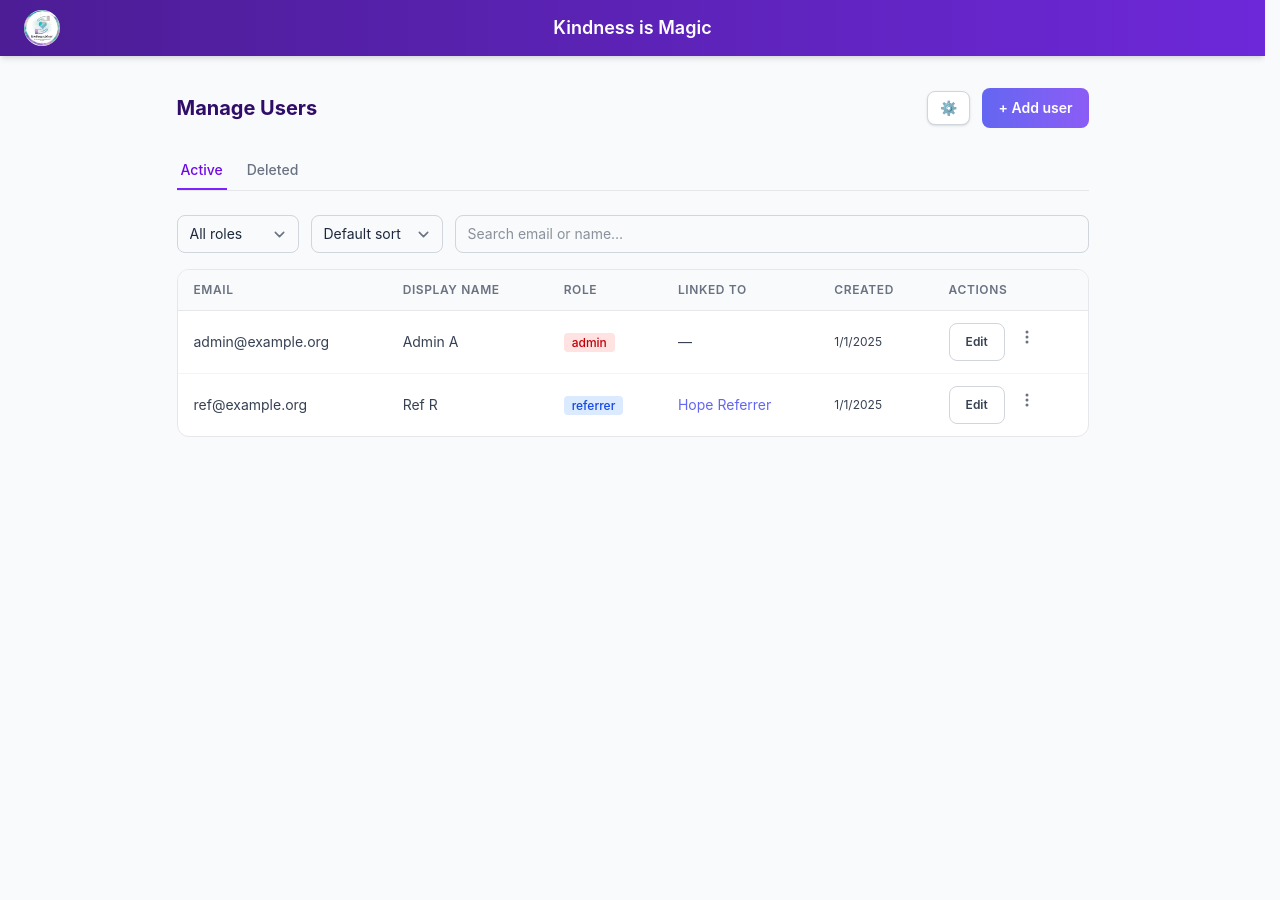
AdminUsers › edit user submits only changed fields
Check: the text "admin@example.org" is shown, box x1=178 y1=310 x2=387 y2=374
Click the button "Edit" in the row of "admin@example.org" at (977, 342), box x1=949 y1=323 x2=1005 y2=361
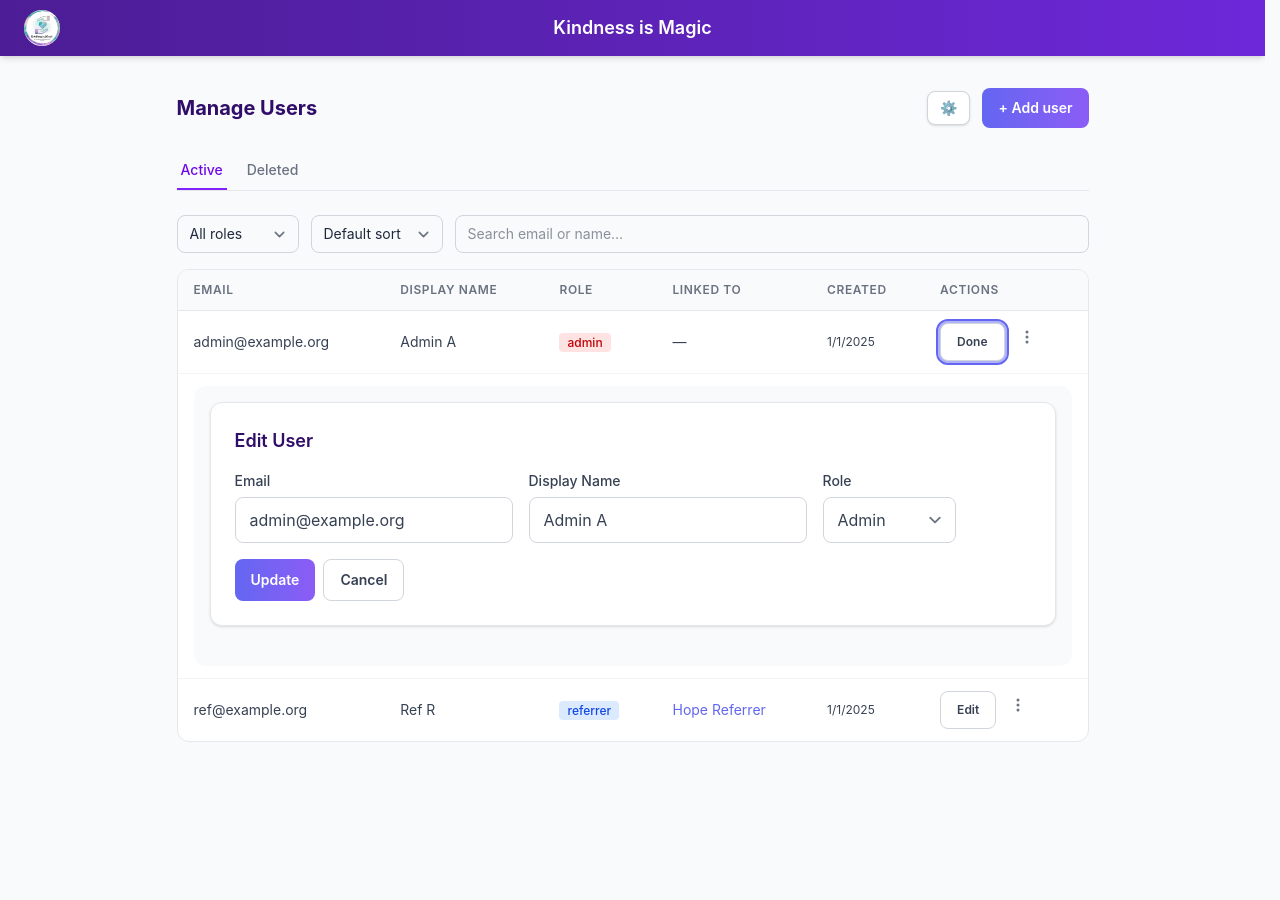
Check: the heading "Edit User" is shown, box x1=234 y1=430 x2=313 y2=451
Check: the field labelled "Email" is disabled, box x1=234 y1=497 x2=512 y2=543
Replace the text in the field labelled "Display Name" with "Admin A2" at (668, 520), box x1=528 y1=497 x2=806 y2=543
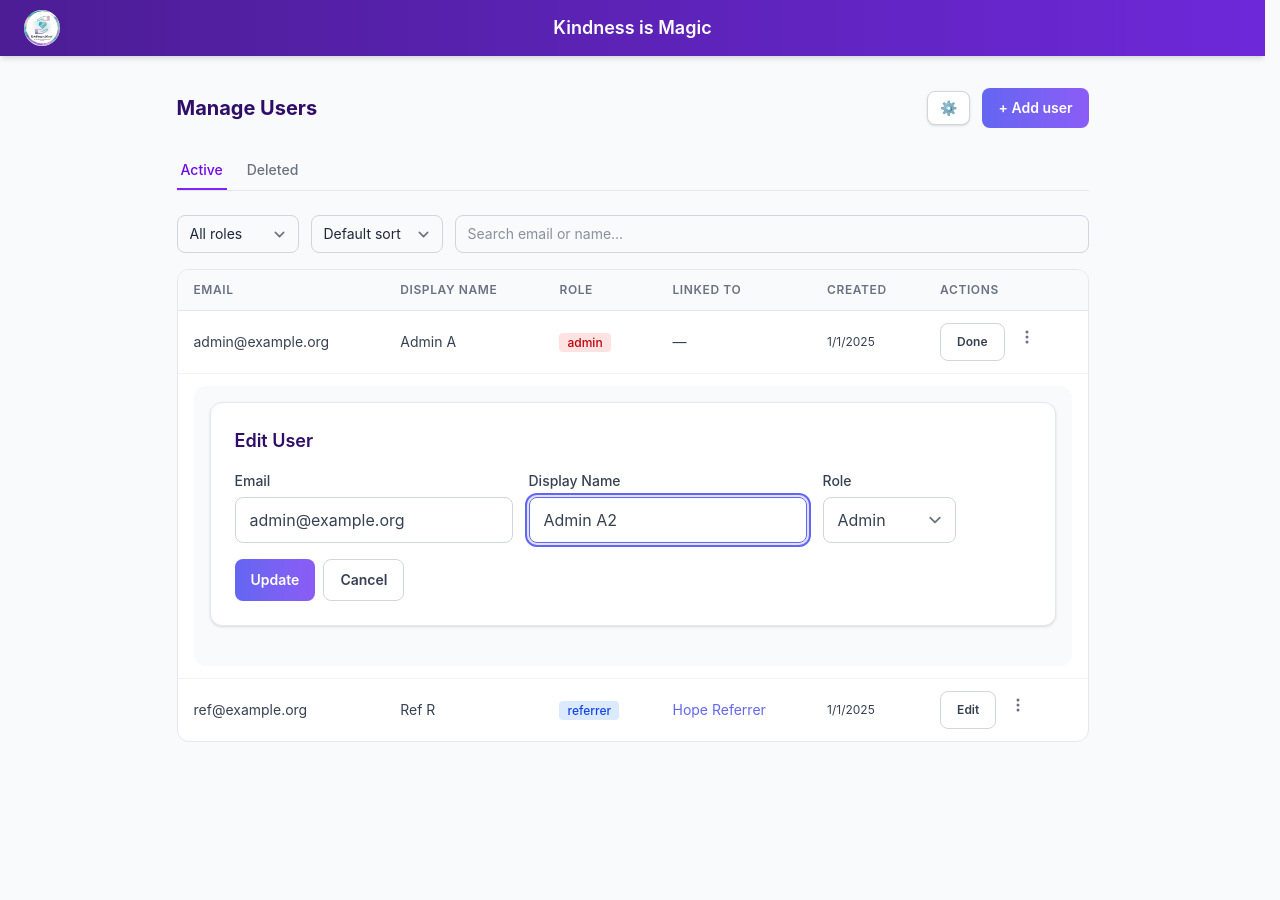
Click the button "Update" at (275, 580), box x1=234 y1=559 x2=315 y2=601
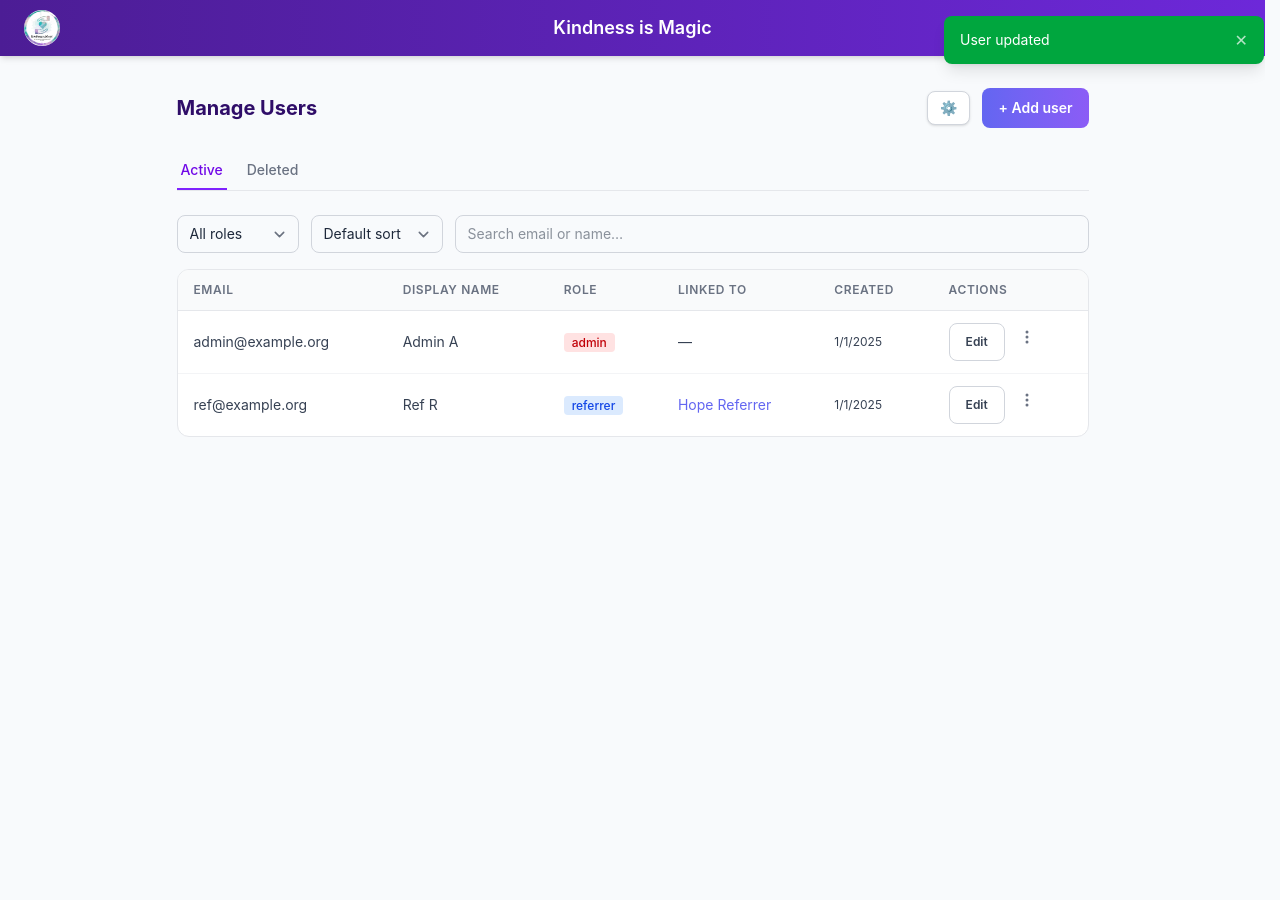
Check: the text "User updated" is shown, box x1=960 y1=31 x2=1050 y2=48
